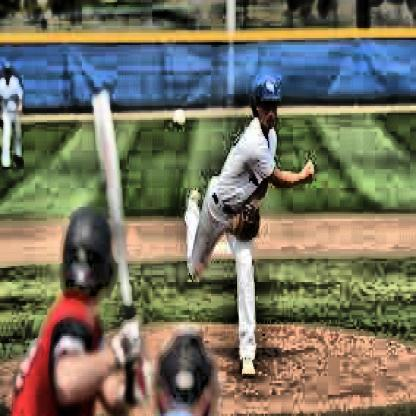baseball: (174, 110, 188, 128)
